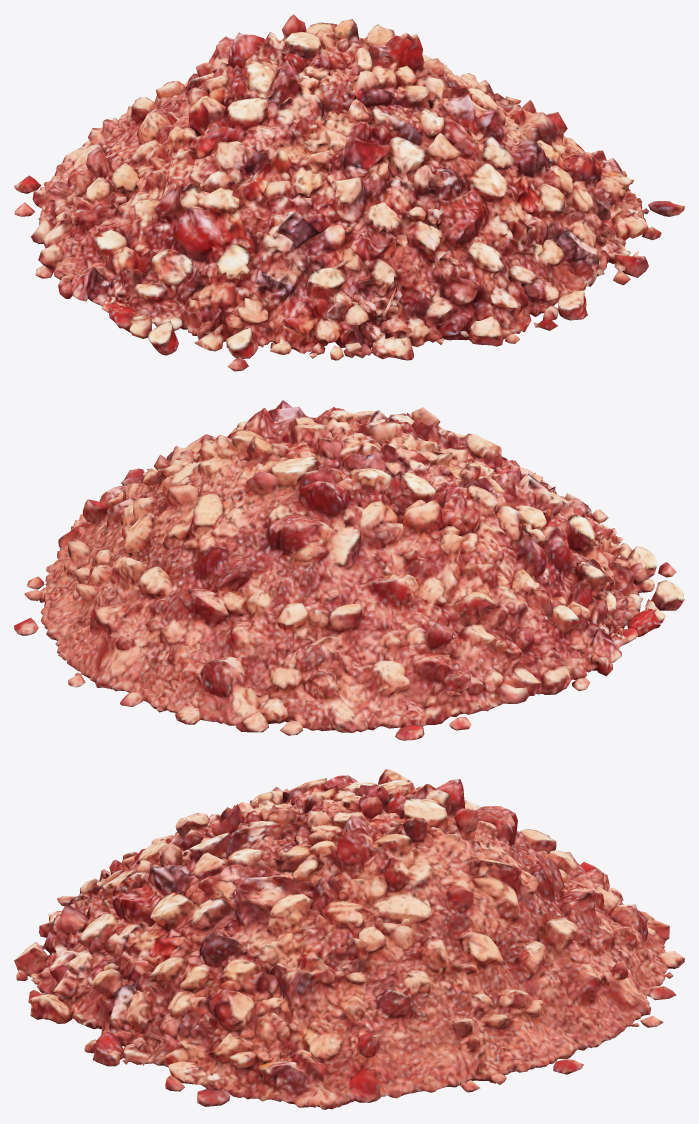
Rendered from lod_basic_shaded.fbx.
The picture shows the model from 3 angles, top to bottom: view 1: azimuth 30°, elevation 25°; view 2: azimuth 150°, elevation 25°; view 3: azimuth 270°, elevation 25°; orthographic projection. The views are drawn at different scales.
Parts seen in each view (by area): view 1: model_LOD0; view 2: model_LOD0; view 3: model_LOD0.
Boxes of the visible parts, x1,y1,x2,y2 form: model_LOD0: (14, 14, 684, 371); model_LOD0: (14, 400, 684, 740); model_LOD0: (14, 769, 684, 1109).
Size of what is drawn, in the model's own units: 177 by 55.59 by 183.
